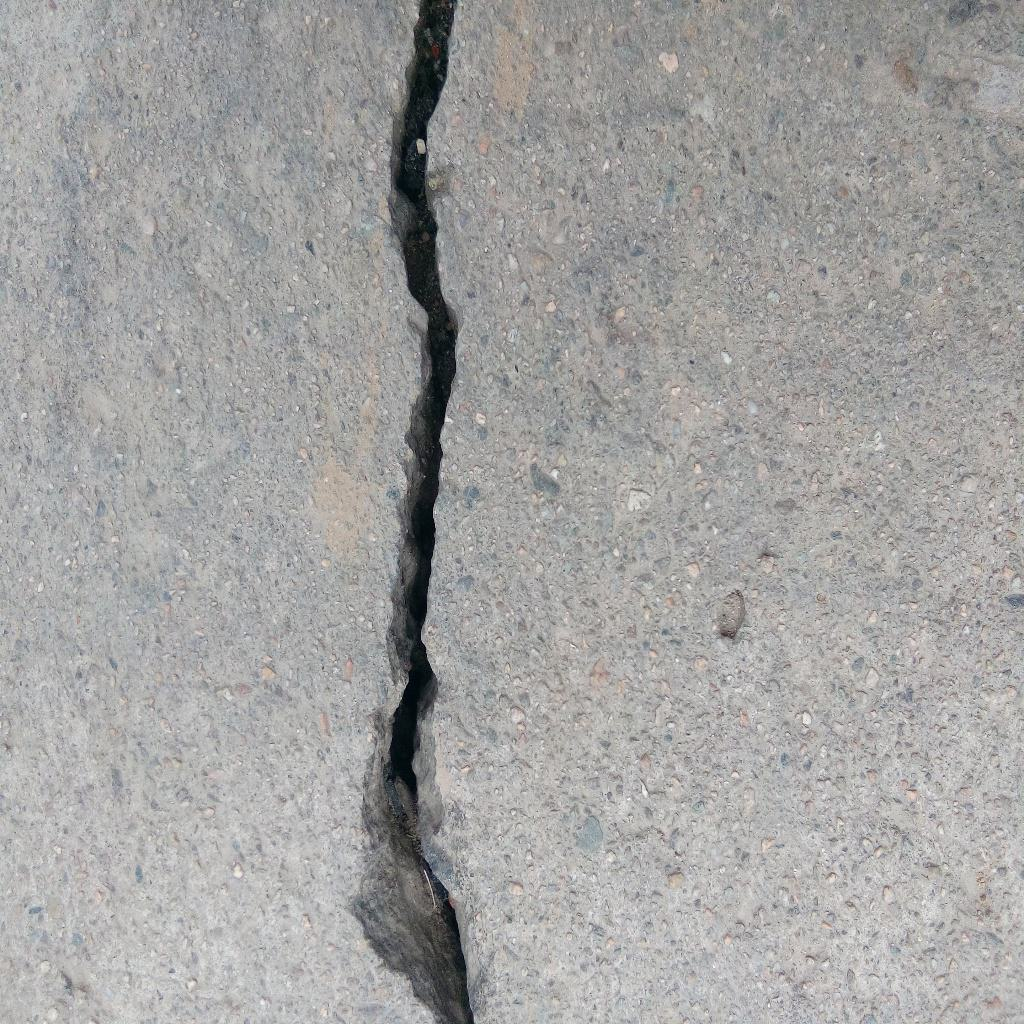Crack: (343, 1, 476, 1024)
